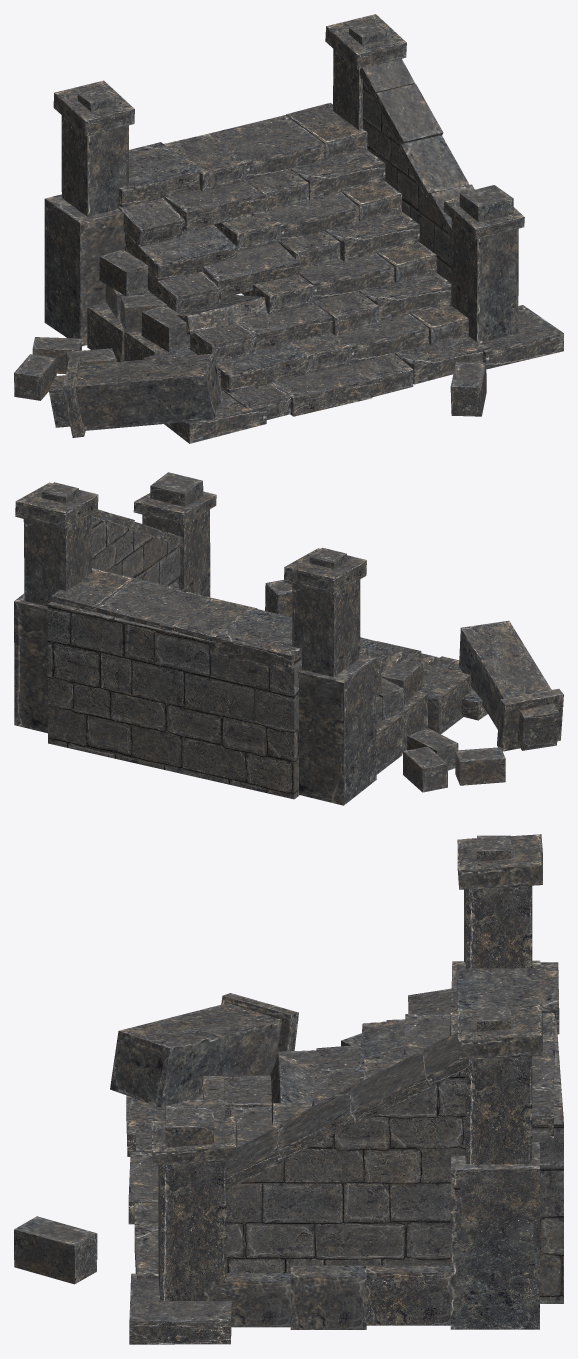
Rendered from Stairs_01.fbx.
3 views of the same model, one above another, from view 1: azimuth 30°, elevation 25°; view 2: azimuth 150°, elevation 25°; view 3: azimuth 270°, elevation 25° (orthographic). The views are drawn at different scales.
Visible parts, largest first — view 1: StoneBricks, StoneWall; view 2: StoneBricks, StoneWall; view 3: StoneBricks, StoneWall.
Boxes of the visible parts, x1,y1,x2,y2 form: StoneBricks: [14, 14, 563, 443]; StoneWall: [145, 81, 451, 291]; StoneBricks: [14, 472, 563, 805]; StoneWall: [47, 518, 301, 799]; StoneBricks: [14, 834, 559, 1344]; StoneWall: [226, 1018, 563, 1303].
Size of what is drawn, in the model's own units: 360 by 172 by 286.
